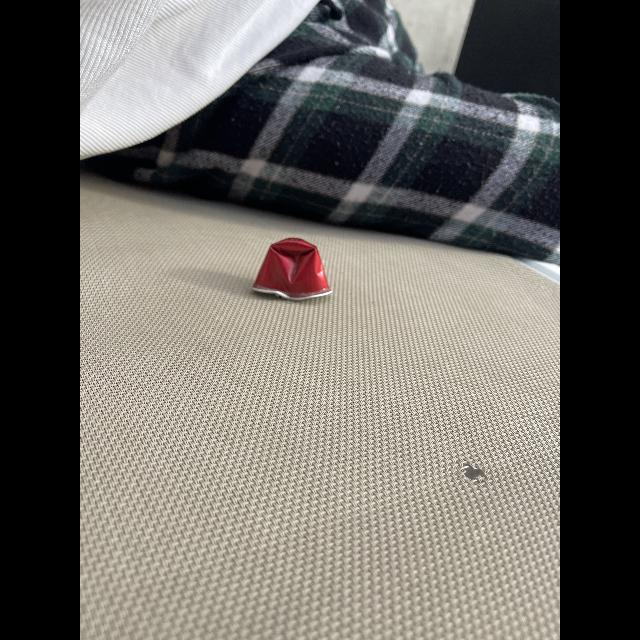damaged_capsule: (242, 229, 350, 307)
